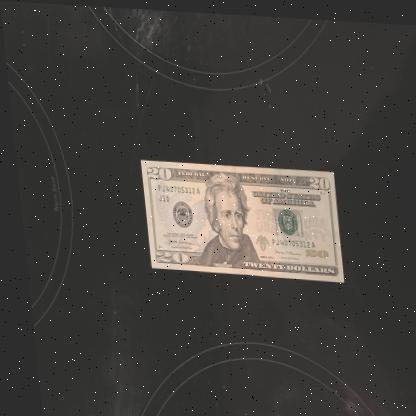dollar_front: (136, 156, 340, 278)
